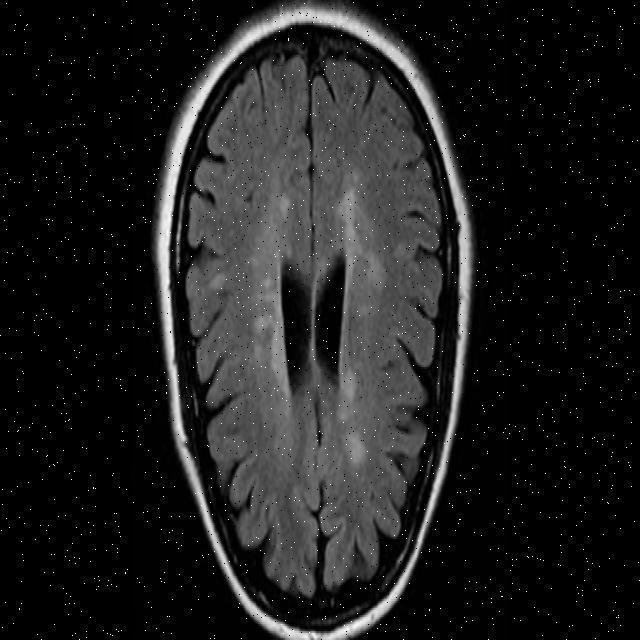No_Tumor: (154, 3, 473, 639)
